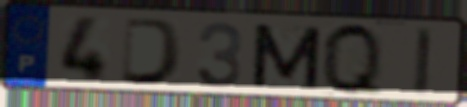3: (195, 20, 245, 89)
4: (57, 14, 114, 86)
D: (118, 15, 186, 87)
I: (410, 25, 436, 98)
M: (248, 21, 325, 91)
Q: (319, 19, 386, 100)
